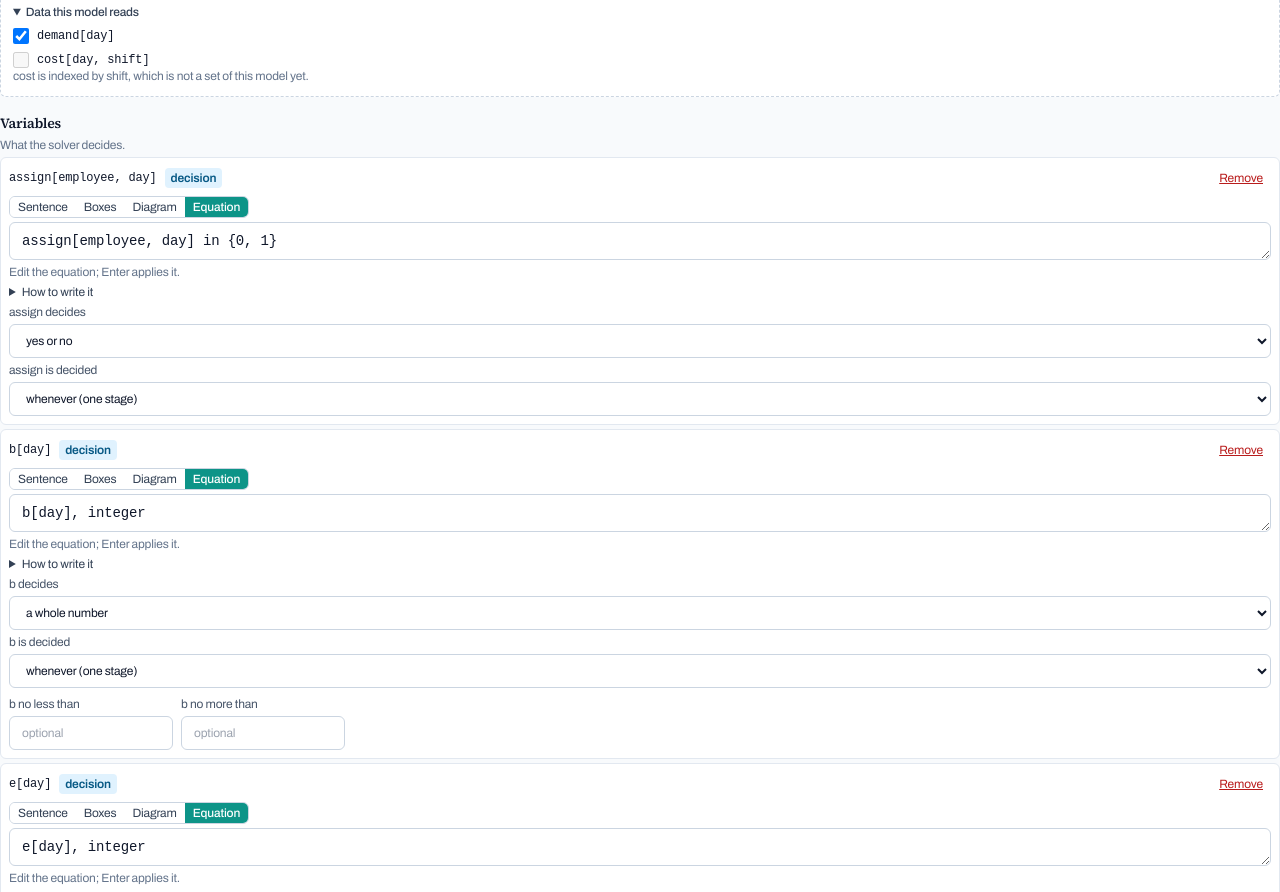
Test: DeclarationsEditor › refuses to remove a variable an interval is built from, naming the interval
This screenshot has width=1280, height=892.
(page scrolled)
Click the button "Remove" in the row of "b[day]". click: click(1241, 450)
box: [1211,438,1271,462]
(page scrolled)
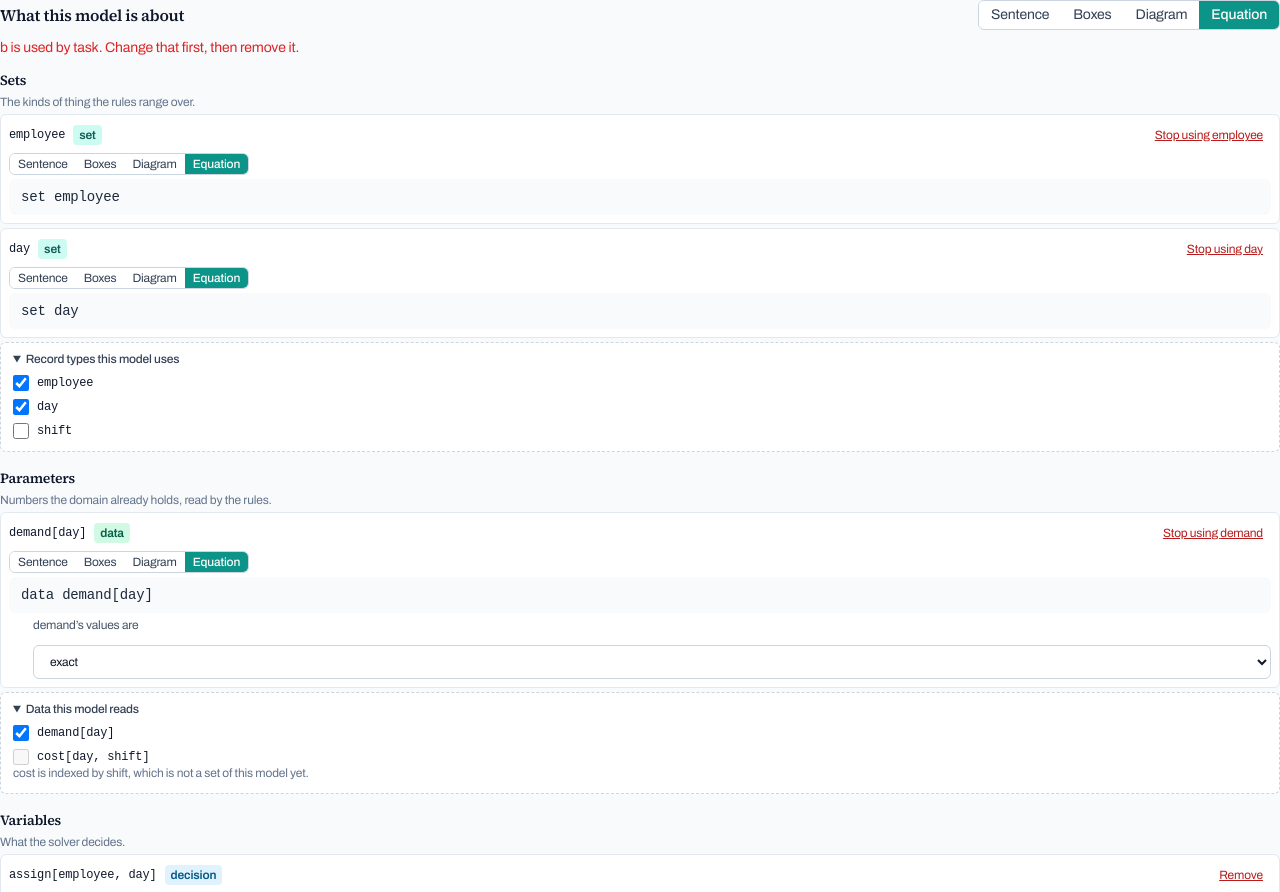
Now the message shows "b is used by task", box [0,40,299,55]
